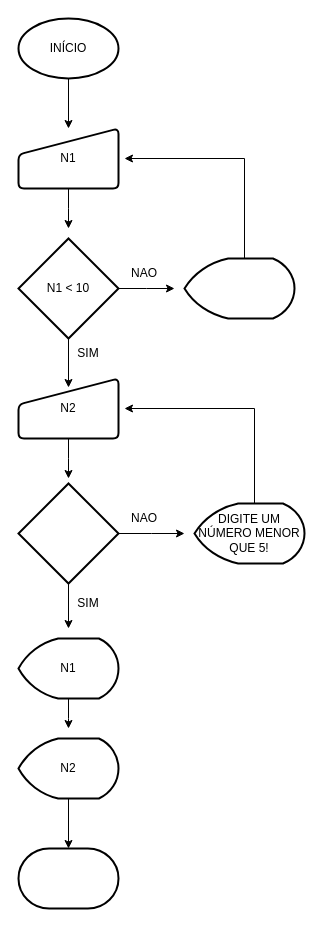
Some shapes in this 322 by 926 pixel diagram are drawn without their labels. The centre of each missing label's shape, as x and y in pixels:
"DIGITE UM NÚMERO MAIOR QUE 10!" belongs at (x=239, y=288).
"FIM" belongs at (x=68, y=878).
"N2 < 5" belongs at (x=68, y=533).
